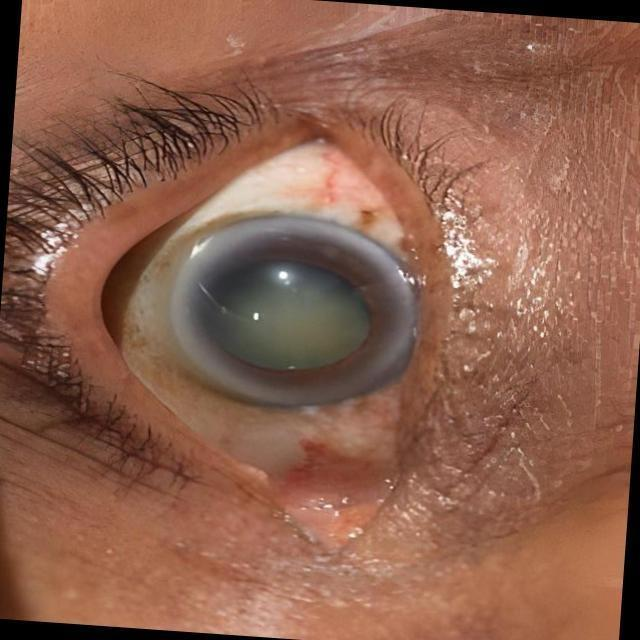Cataract: (136, 206, 417, 417)
